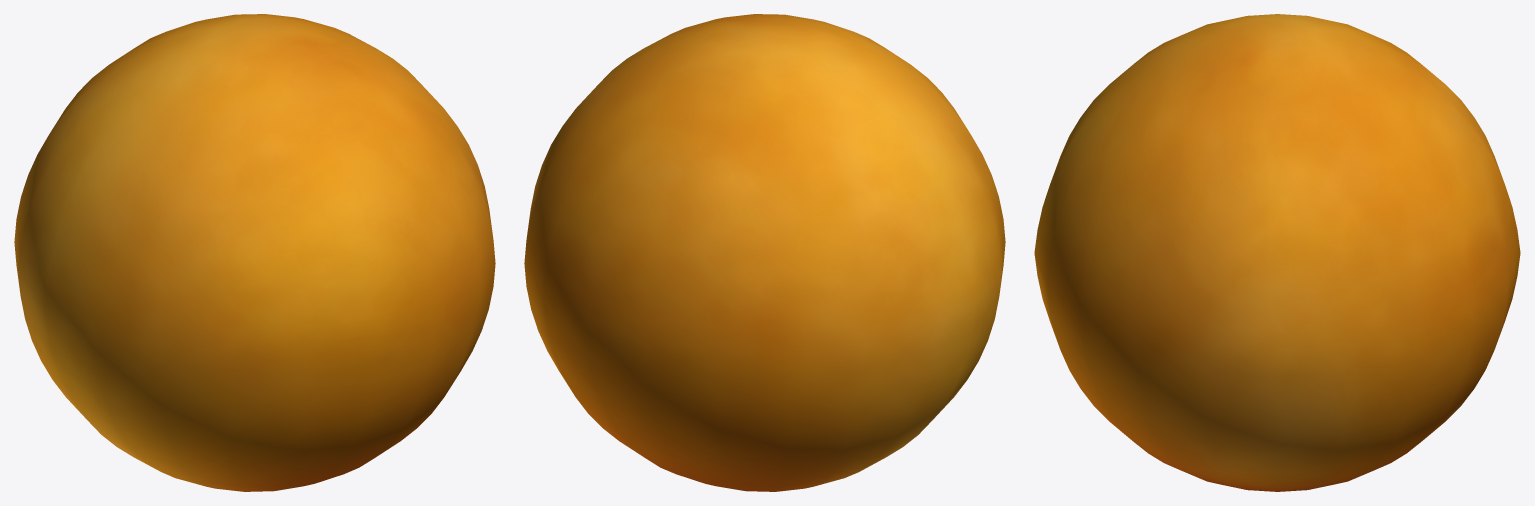
File: artifact-golden-sphere.glb
The picture shows the model from 3 angles, left to right: view 1: azimuth 30°, elevation 25°; view 2: azimuth 150°, elevation 25°; view 3: azimuth 270°, elevation 25°; orthographic projection.
Visible parts, largest first — view 1: tripo_node_f842e6d7-bfcd-400f-b44d-95ab47da8b9d; view 2: tripo_node_f842e6d7-bfcd-400f-b44d-95ab47da8b9d; view 3: tripo_node_f842e6d7-bfcd-400f-b44d-95ab47da8b9d.
Part boxes in pixels (left/top/right/bottom): tripo_node_f842e6d7-bfcd-400f-b44d-95ab47da8b9d: left=14, top=14, right=495, bottom=491; tripo_node_f842e6d7-bfcd-400f-b44d-95ab47da8b9d: left=524, top=14, right=1005, bottom=491; tripo_node_f842e6d7-bfcd-400f-b44d-95ab47da8b9d: left=1034, top=14, right=1520, bottom=491.
Bounding box in the file's own units: 0.9995 × 0.9937 × 0.9995.
1 material, 1 textured.
